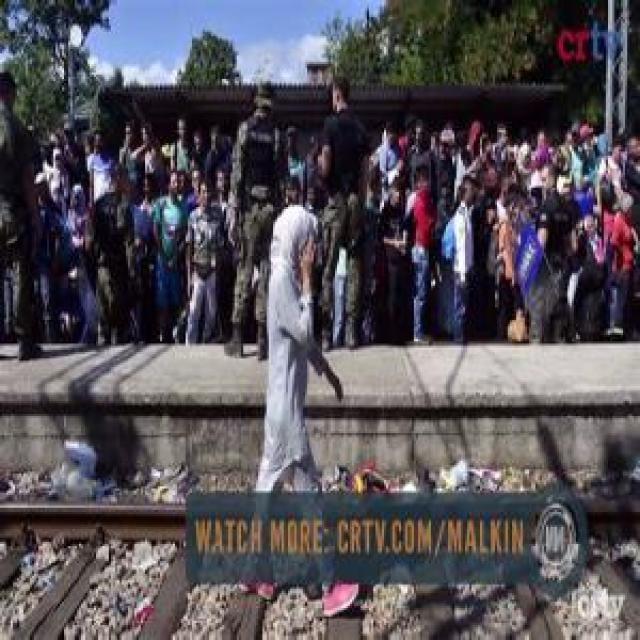danger: (258, 196, 359, 619), (0, 65, 45, 362), (317, 73, 364, 354), (228, 77, 275, 358), (153, 175, 190, 346), (406, 163, 438, 349), (440, 178, 474, 345), (536, 163, 568, 334), (187, 175, 220, 339), (64, 180, 96, 342), (604, 185, 636, 342), (572, 213, 610, 339), (474, 164, 499, 342), (379, 178, 404, 347), (504, 178, 529, 345), (132, 175, 156, 341), (212, 166, 232, 344), (364, 168, 381, 346), (43, 144, 68, 263), (130, 123, 160, 197), (618, 119, 639, 222), (377, 122, 404, 202), (604, 132, 625, 226), (88, 136, 113, 214), (283, 116, 304, 204), (471, 134, 498, 198), (62, 121, 87, 188), (117, 121, 139, 195), (573, 167, 598, 226), (462, 125, 483, 193), (169, 117, 194, 173), (409, 123, 434, 178), (440, 123, 458, 197), (579, 120, 596, 184), (207, 126, 232, 168), (557, 130, 574, 188), (191, 127, 208, 176), (536, 127, 552, 178), (518, 142, 532, 195), (492, 125, 506, 163)
